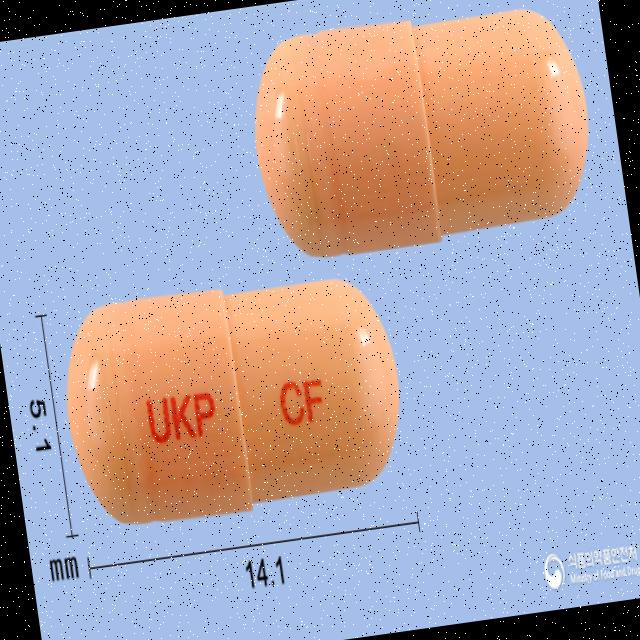Unifixime Cap: (51, 260, 414, 535), (243, 0, 604, 265)
